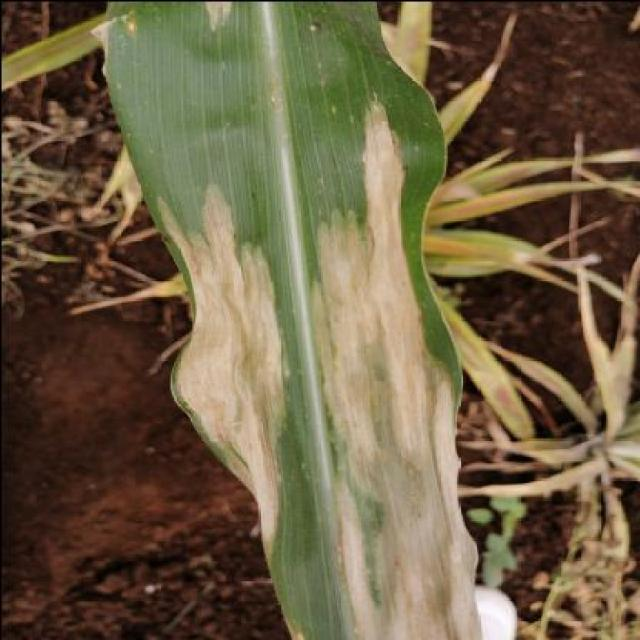Corn_Leaf_Blight: (102, 0, 464, 640)
